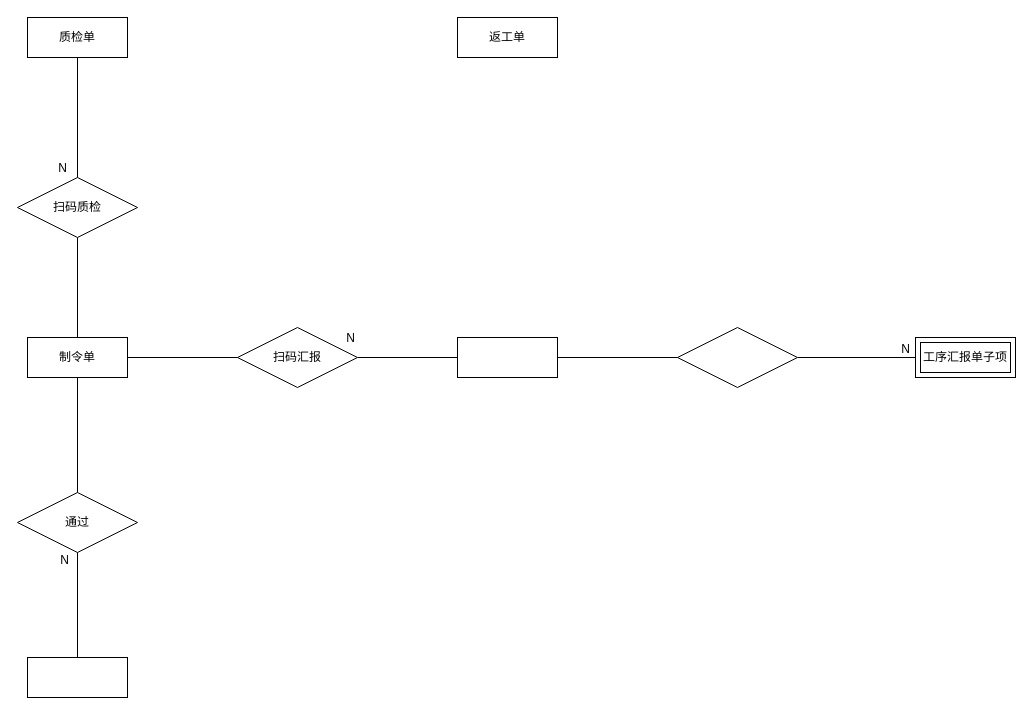
This 1033x715 diagram has some shape labels left out. Here are the shapes that lost their labels. From the top down, the centre of each, then its label:
At point 507,357: "工序汇报单".
At point 737,357: "属于".
At point 77,677: "领料单".
